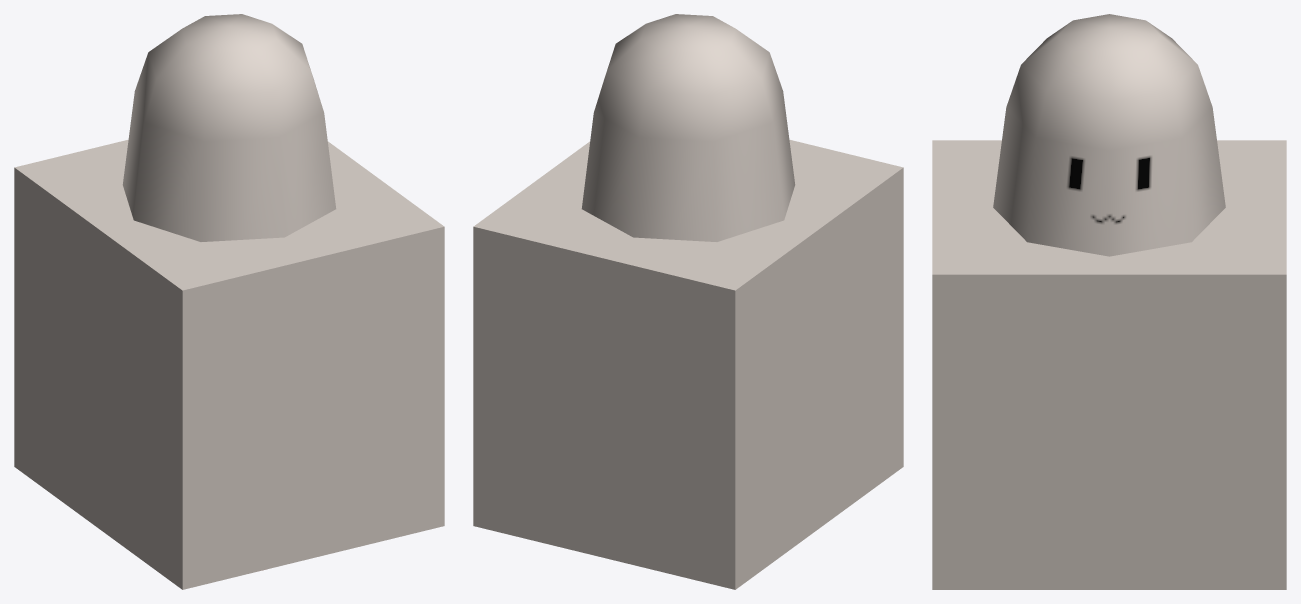
The model's file is ChMD_kato_01.fbx.
The picture shows the model from 3 angles, left to right: view 1: azimuth 30°, elevation 25°; view 2: azimuth 150°, elevation 25°; view 3: azimuth 270°, elevation 25°; orthographic projection. The views are drawn at different scales.
Parts seen in each view (by area): view 1: pCube2, pCylinder1; view 2: pCube2, pCylinder1; view 3: pCube2, pCylinder1.
Boxes of the visible parts, <box> form: pCube2: <box>14,139,444,589</box>; pCylinder1: <box>122,14,336,241</box>; pCube2: <box>473,139,903,589</box>; pCylinder1: <box>581,14,795,241</box>; pCube2: <box>932,140,1286,589</box>; pCylinder1: <box>993,14,1225,256</box>.
Size of the model in its own units: 64.11 by 110 by 71.29.
Materials: 1 (1 with a texture image).
